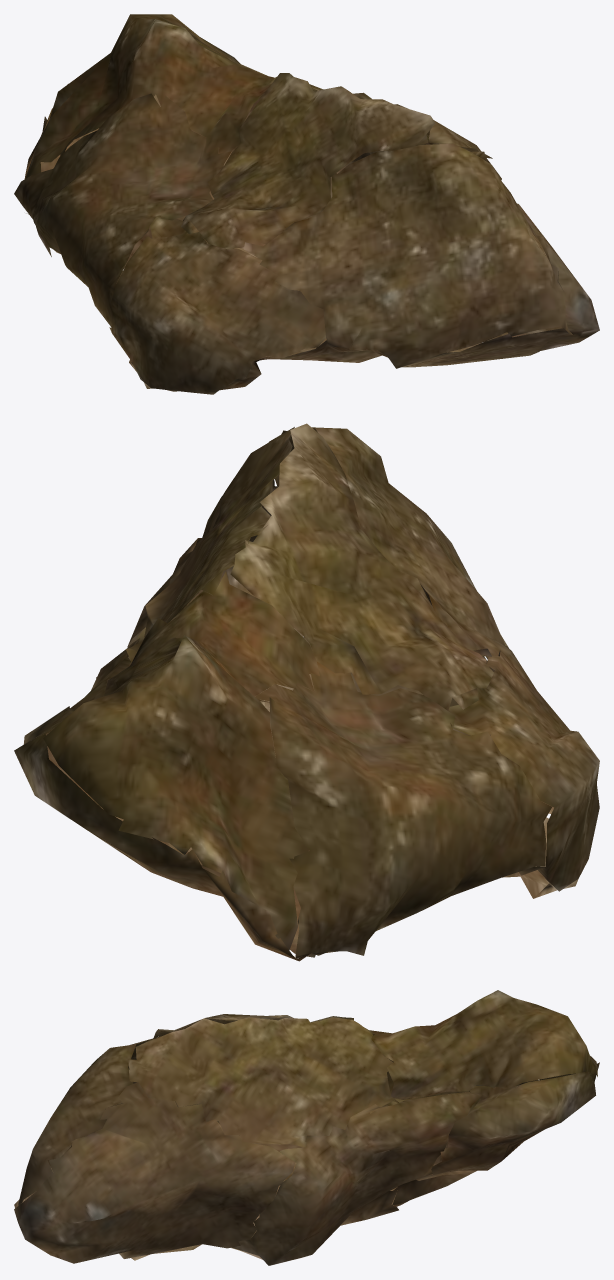
The model's file is rock_moss_set_01_0.glb.
3 renders of one model, top to bottom at view 1: azimuth 30°, elevation 25°; view 2: azimuth 150°, elevation 25°; view 3: azimuth 270°, elevation 25°, orthographic. The views are drawn at different scales.
Visible parts, largest first — view 1: rock_moss_set_01_rock01; view 2: rock_moss_set_01_rock01; view 3: rock_moss_set_01_rock01.
Boxes of the visible parts, x1,y1,x2,y2 form: rock_moss_set_01_rock01: [14, 14, 599, 394]; rock_moss_set_01_rock01: [14, 423, 599, 961]; rock_moss_set_01_rock01: [14, 990, 599, 1265].
Size of the model in its own units: 2.23 by 1.48 by 3.39.
1 material, 1 textured.
